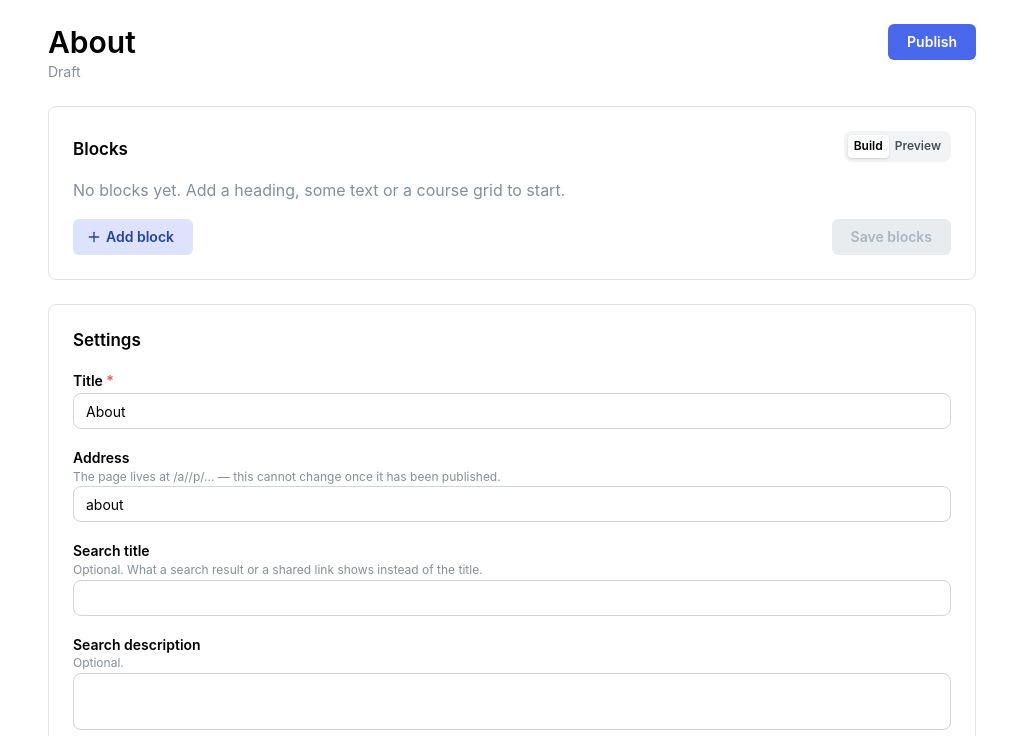
Scenario: PageBuilderRoute › explains why an empty page cannot be published
Click the button "Publish".
click(932, 42)  # box [888,24,976,60]
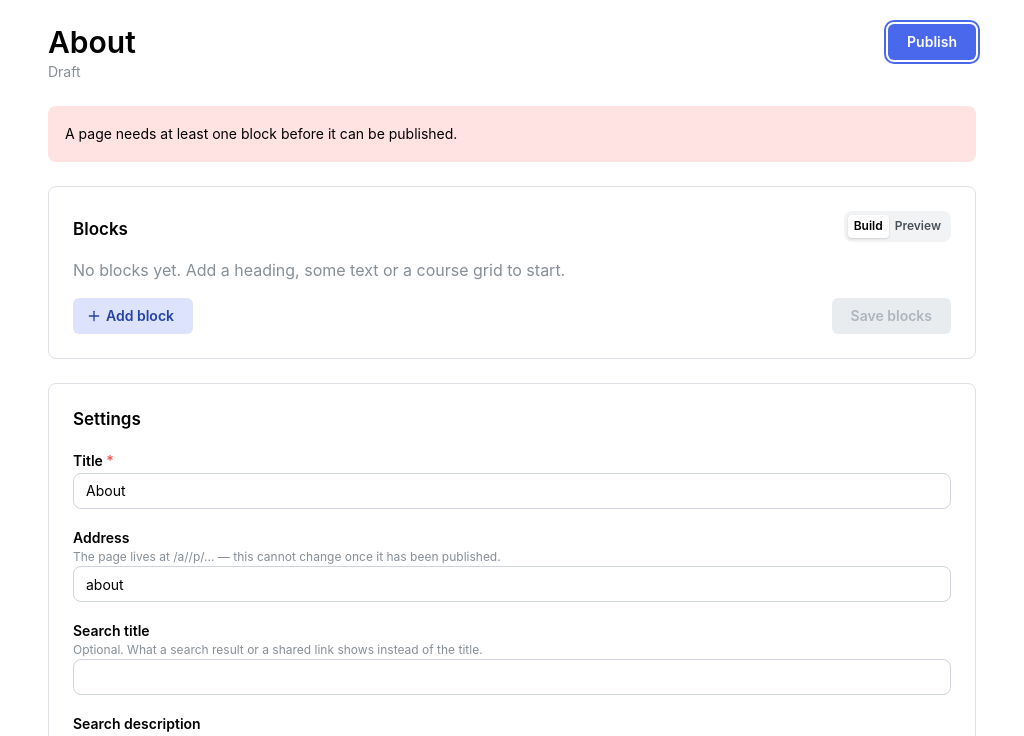
expect the text "A page needs at least one block before it can be published." is shown: met, box [65,125,457,142]
